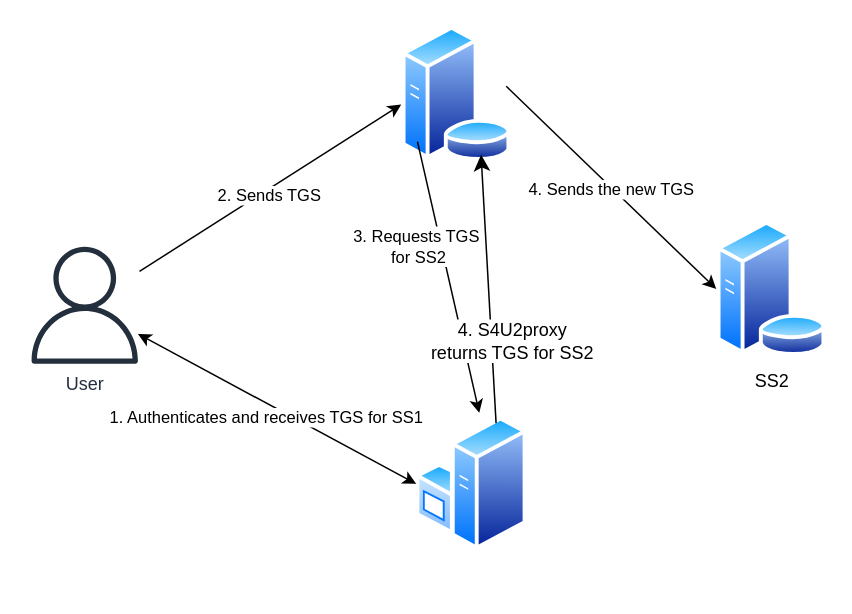
The diagram is 852 pixels wide and 614 high, and some of its shapes have lost their labels. The shapes that lost their labels are listed below. From the top down, each one's centre as x and y in pixels, then its label:
At [456,93]: "SS1".
At [471,483]: "DC".
